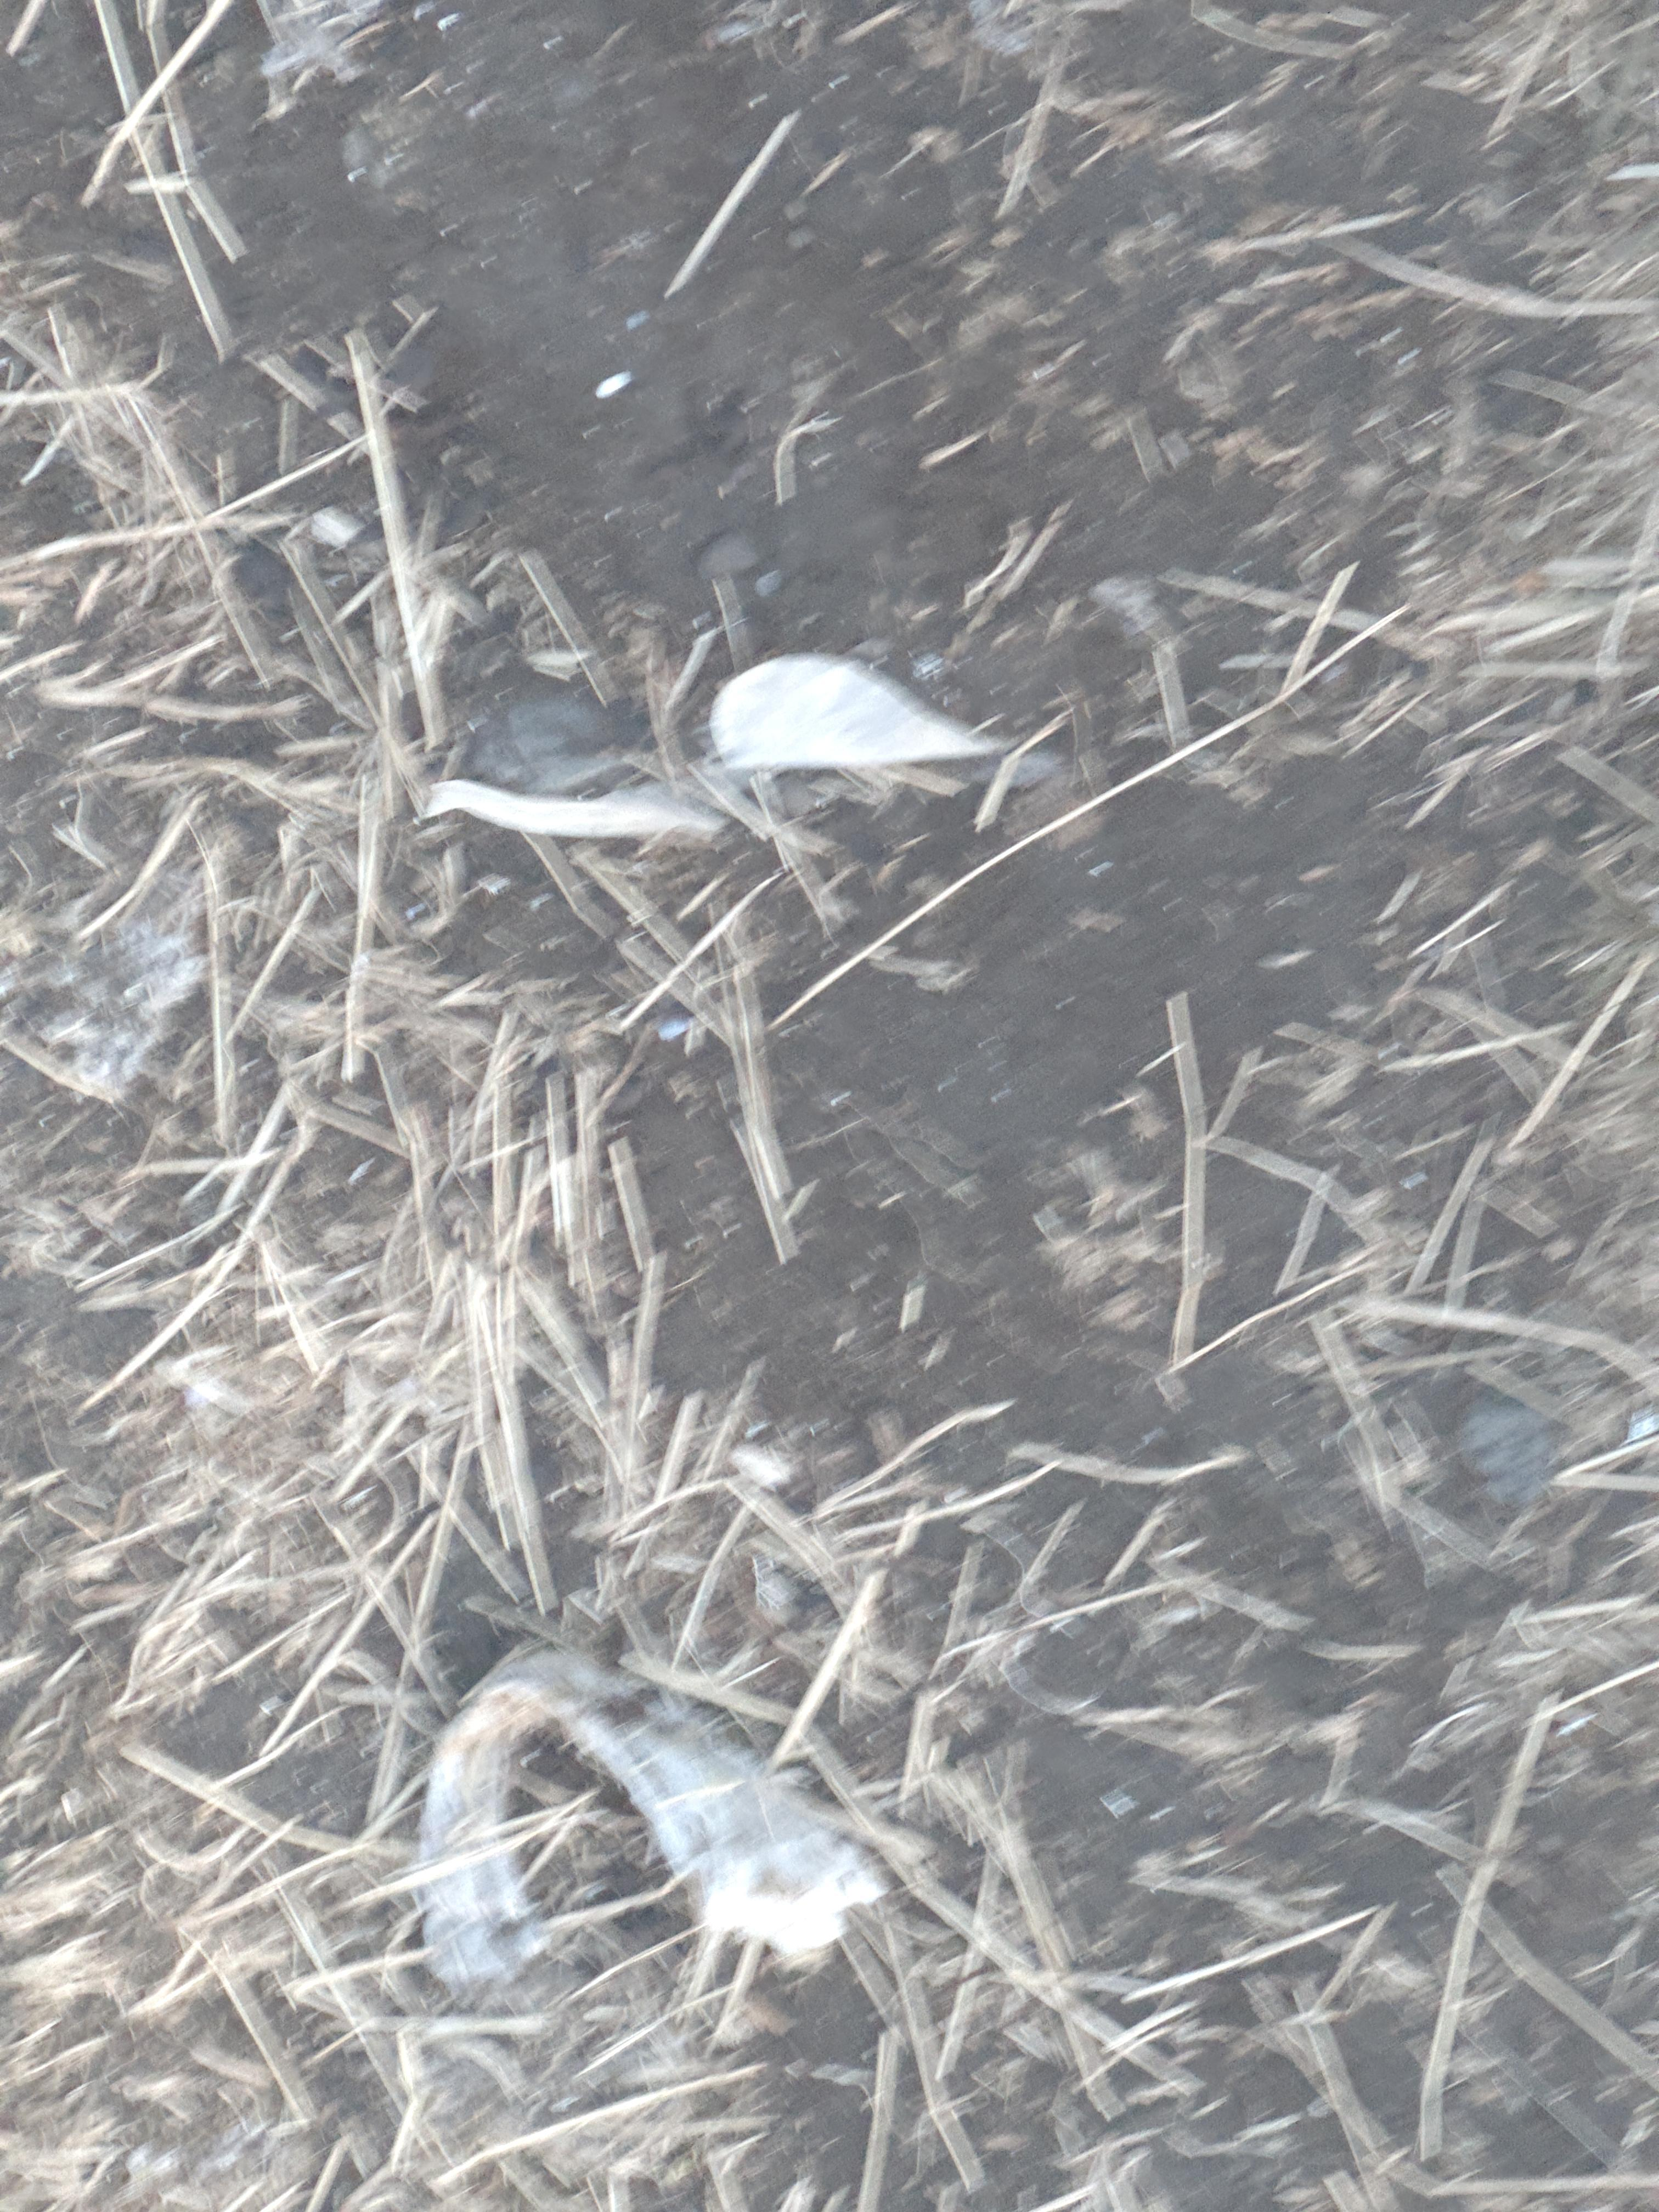trash: (418, 1651, 885, 1987), (709, 653, 999, 773), (423, 777, 721, 838)
